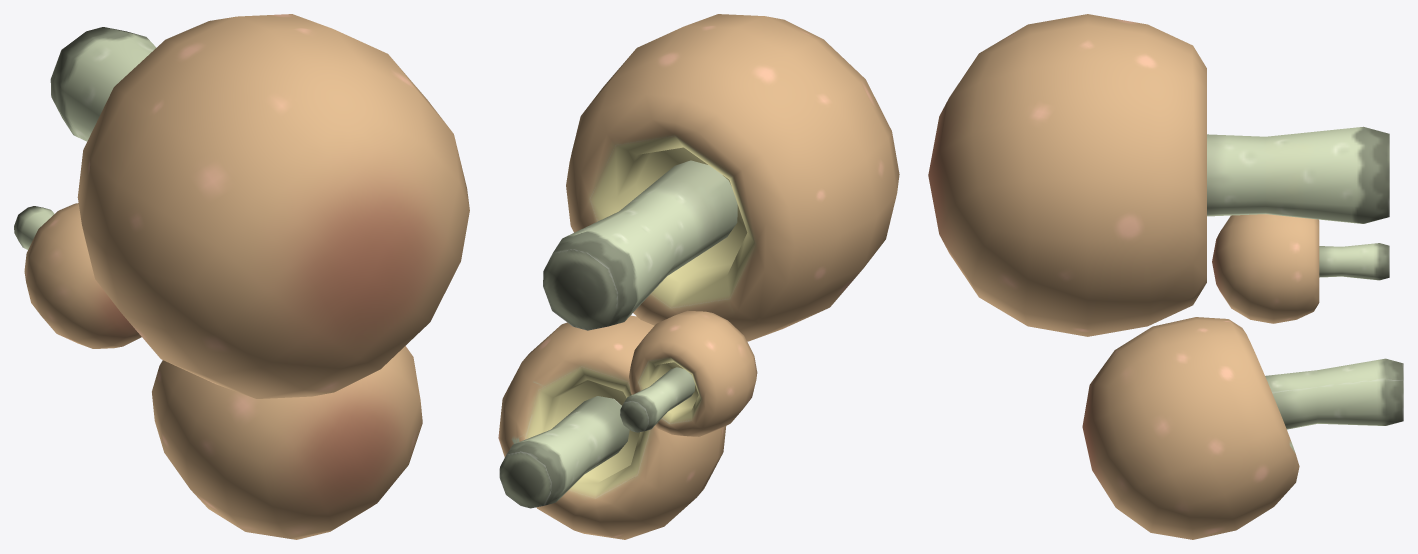
Rendered from mushroom3.glb.
3 views of the same model, side by side, from view 1: azimuth 30°, elevation 25°; view 2: azimuth 150°, elevation 25°; view 3: azimuth 270°, elevation 25° (orthographic). The views are drawn at different scales.
Parts seen in each view (by area): view 1: 3.001_Cube.001; view 2: 3.001_Cube.001; view 3: 3.001_Cube.001.
Part boxes in pixels (x1,y1,x2,y2): 3.001_Cube.001: [14, 14, 469, 539]; 3.001_Cube.001: [498, 14, 899, 539]; 3.001_Cube.001: [928, 14, 1403, 539].
Size of the model in its own units: 0.9257 by 1.37 by 1.26.
1 material, 1 textured.
